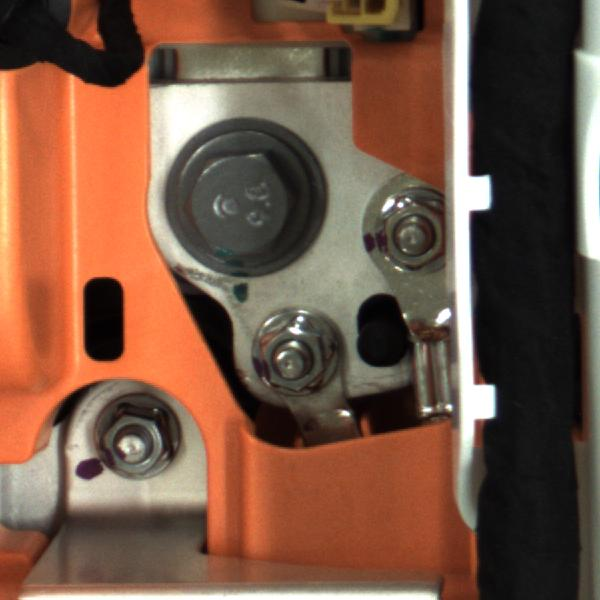nut_b: (138, 116, 319, 276)
screw_s: (242, 300, 341, 410), (91, 393, 189, 487), (363, 185, 450, 281)
